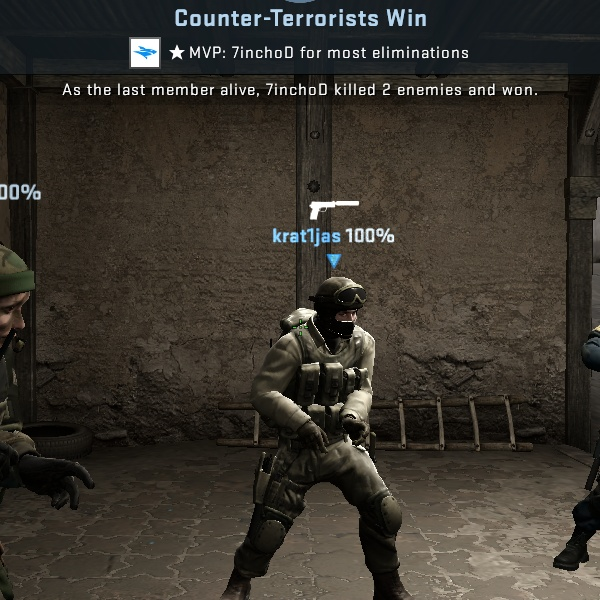ct_body: (239, 267, 443, 594)
ct_head: (303, 274, 373, 345)
